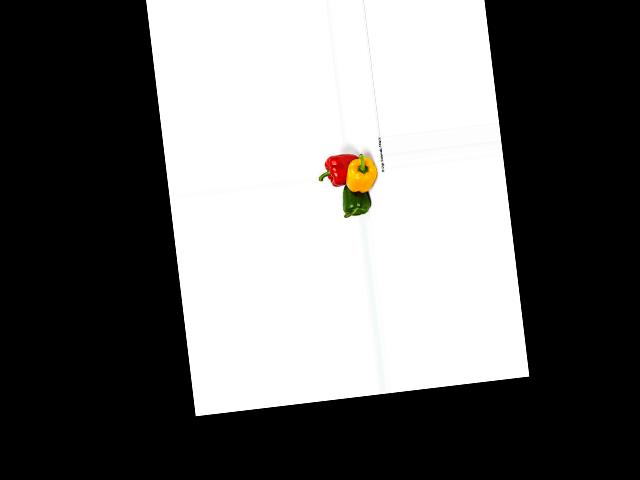bell_pepper: (316, 149, 359, 189)
